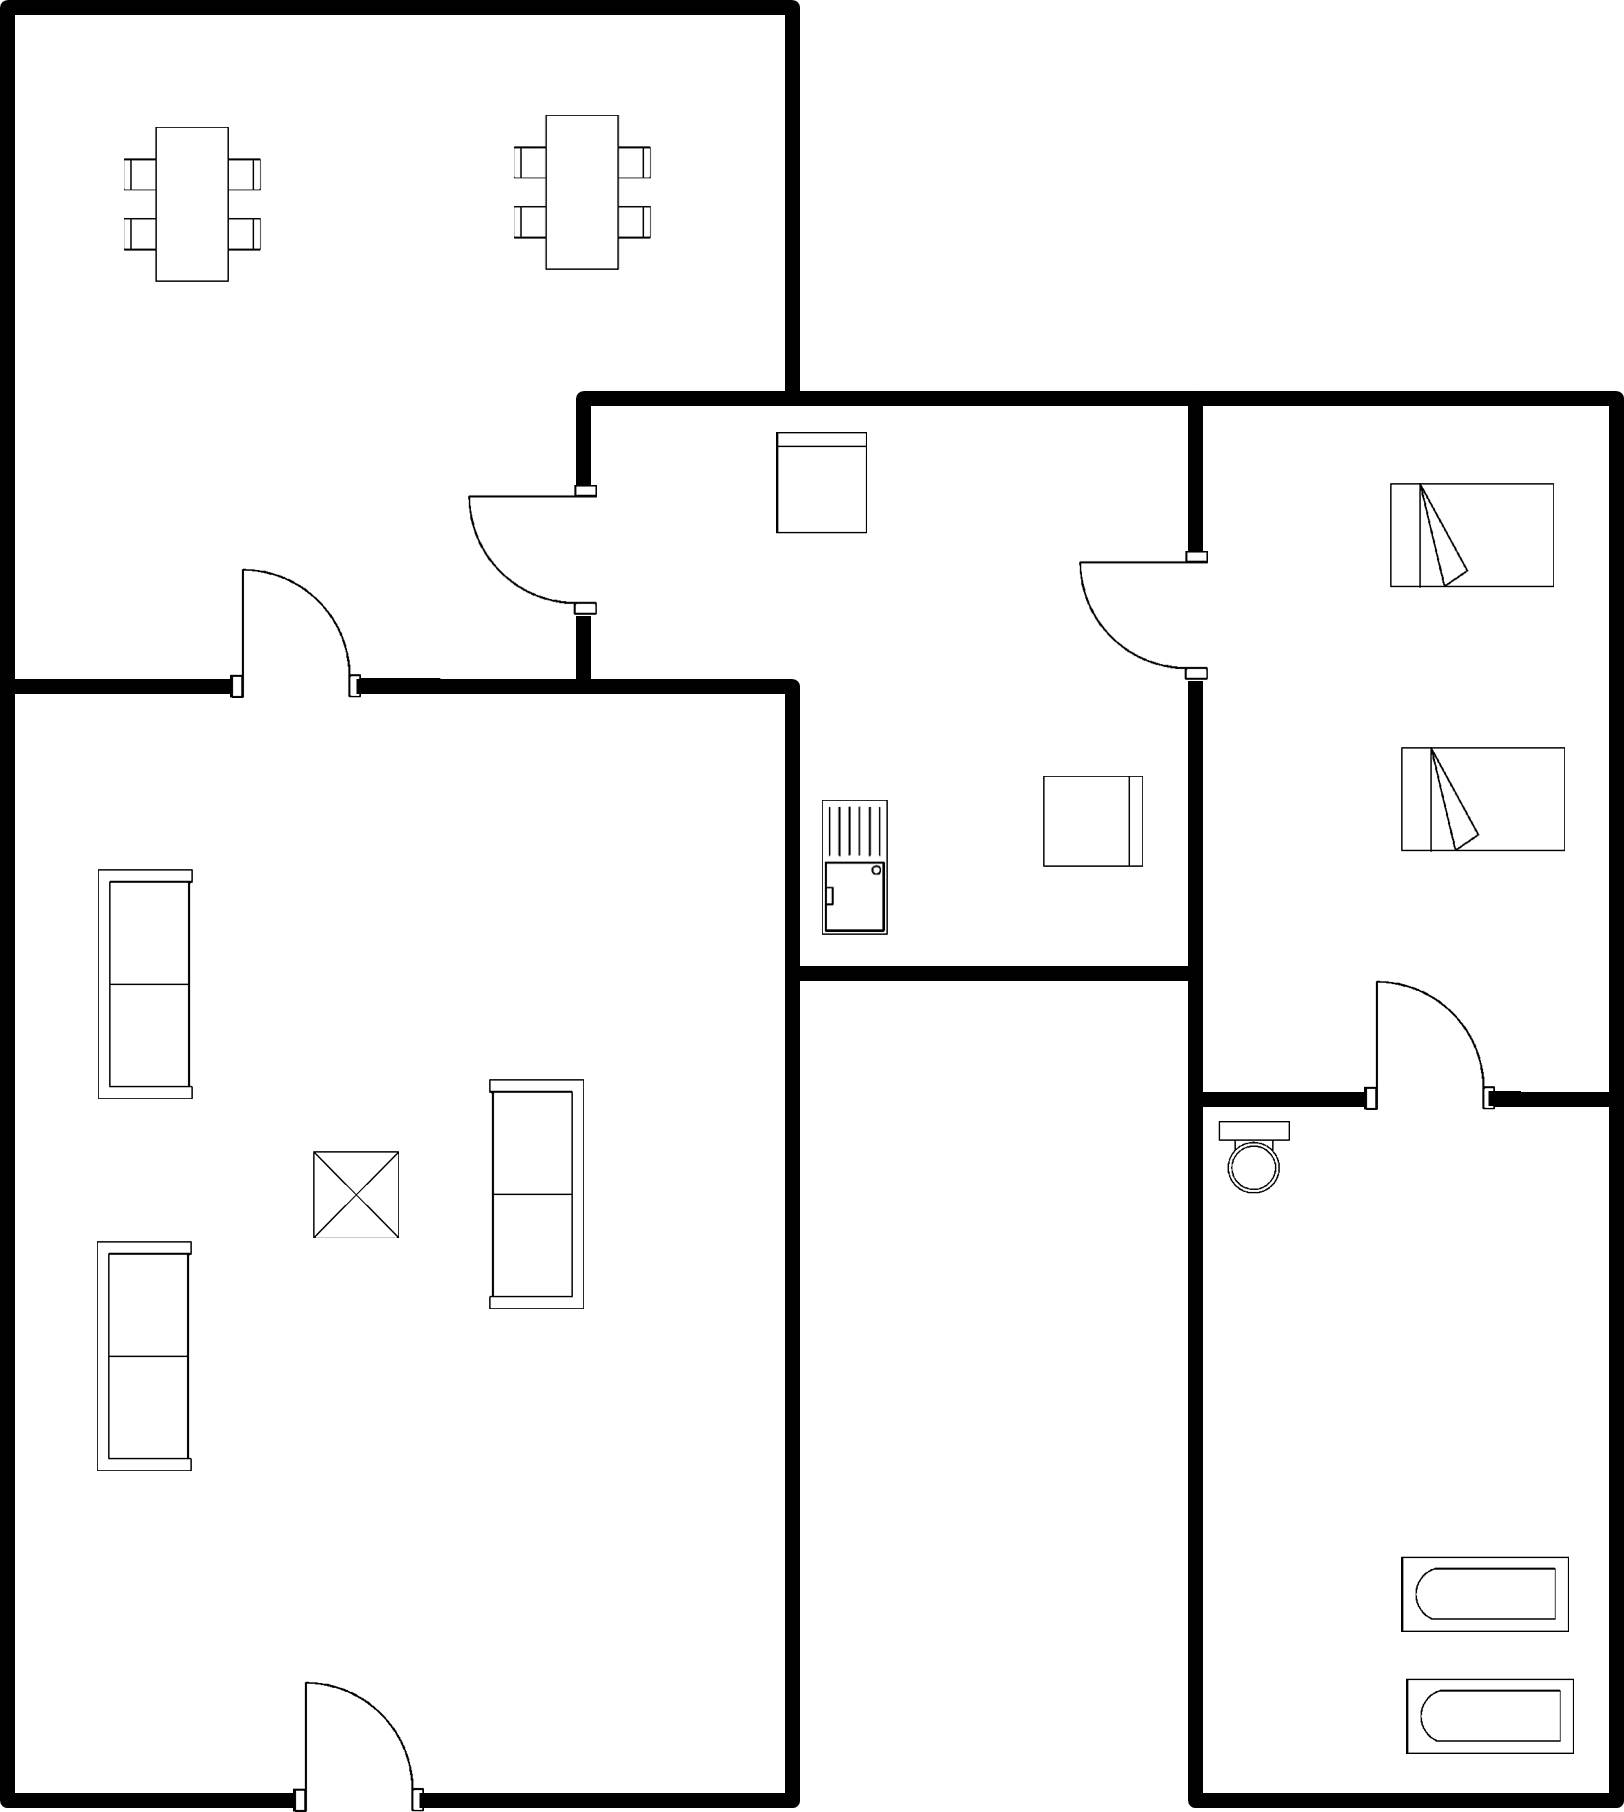bed: (1375, 468, 1571, 602), (1393, 732, 1575, 864)
coffee_table: (298, 1136, 411, 1254)
dining_table: (496, 102, 668, 286), (105, 111, 273, 296)
large_sink: (1207, 1111, 1302, 1204)
large_sofa: (84, 857, 214, 1114), (84, 1227, 211, 1482), (475, 1064, 596, 1325)
sink: (811, 784, 900, 941)
small_sofa: (762, 418, 880, 543), (1032, 764, 1150, 879)
tub: (1389, 1664, 1586, 1770), (1382, 1546, 1584, 1646)
